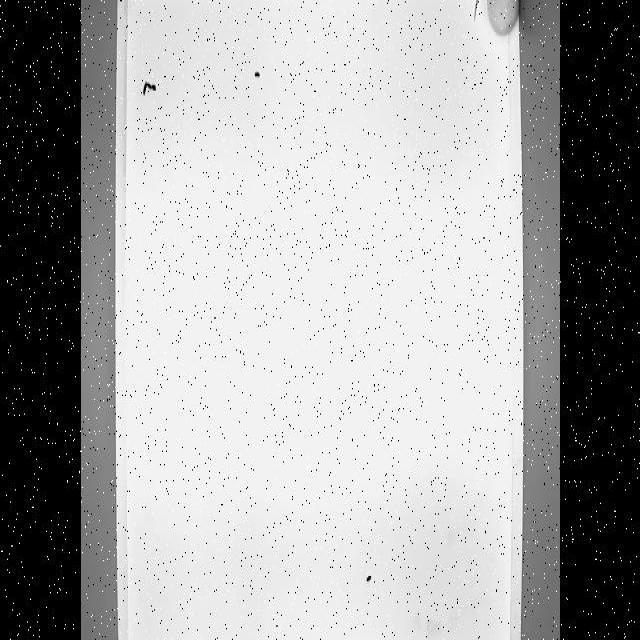rat: (474, 3, 522, 38)
